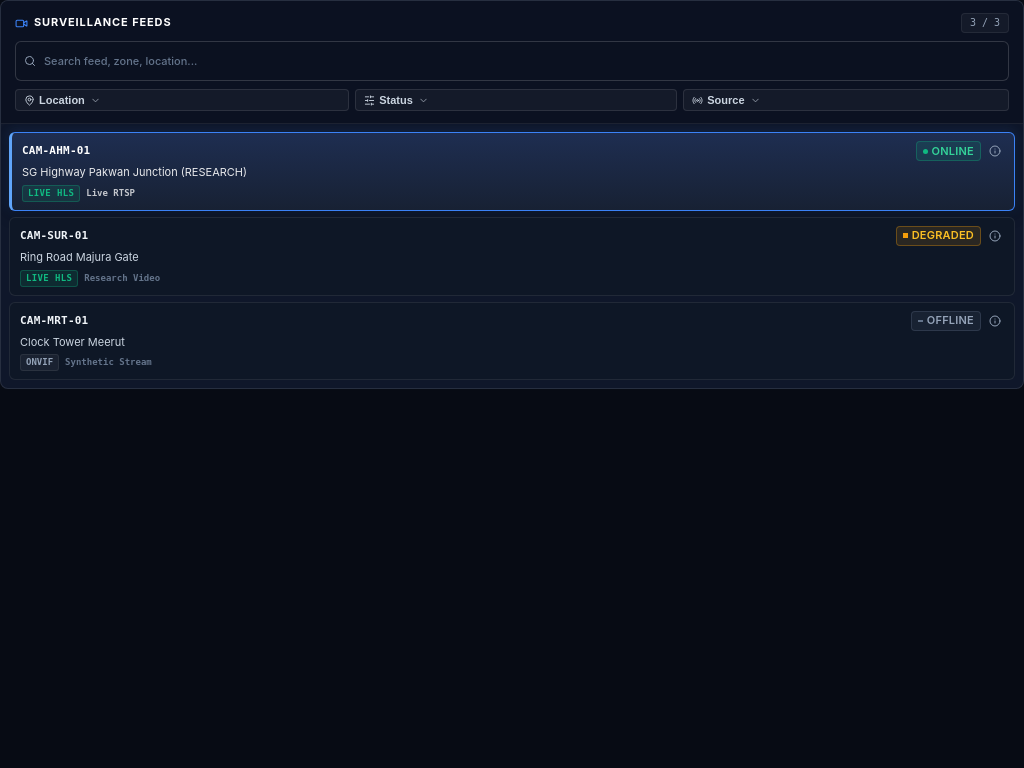
Test: Live CCTV Monitoring Page & Components › Scalable Dynamic Location & Multi-faceted Filtering (Part 2) › filters by status and source and supports combined filtering
# Filter by Status: DEGRADED
What coordinates should you click on to do the following:
click the button with test id "live-filter-dropdown-status"
I would click on:
 (396, 100)
Its box is x1=355 y1=89 x2=677 y2=111.
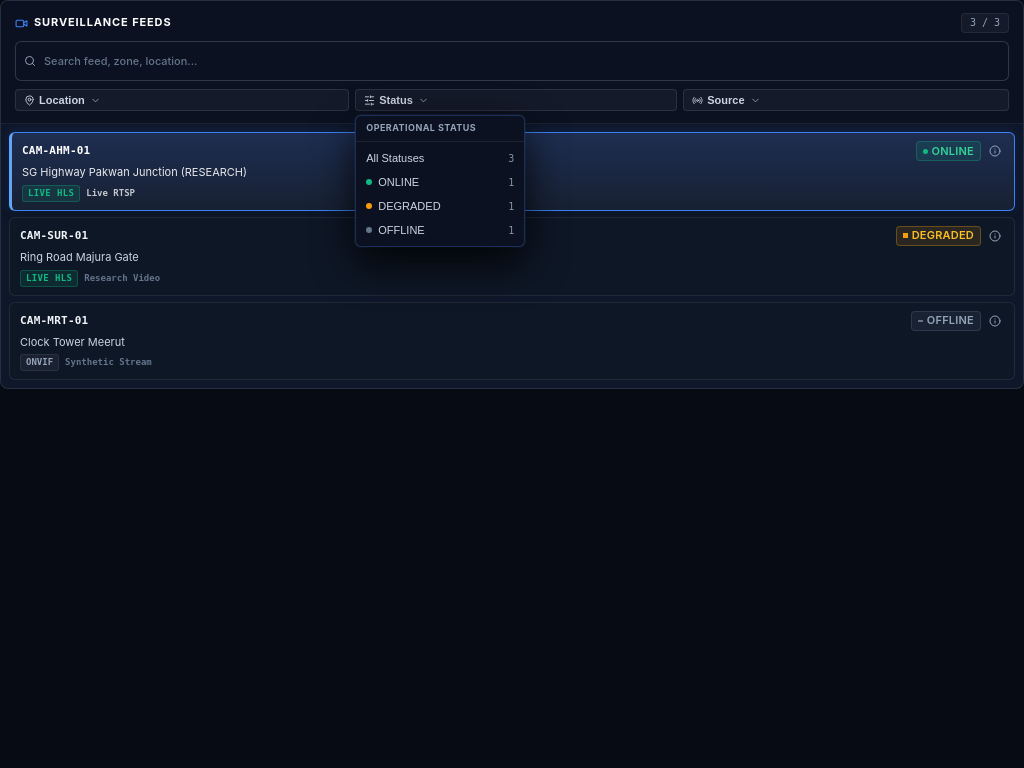
What coordinates should you click on to do the following:
click the button with test id "filter-degraded"
I would click on:
 (440, 206)
Its box is x1=356 y1=194 x2=524 y2=218.
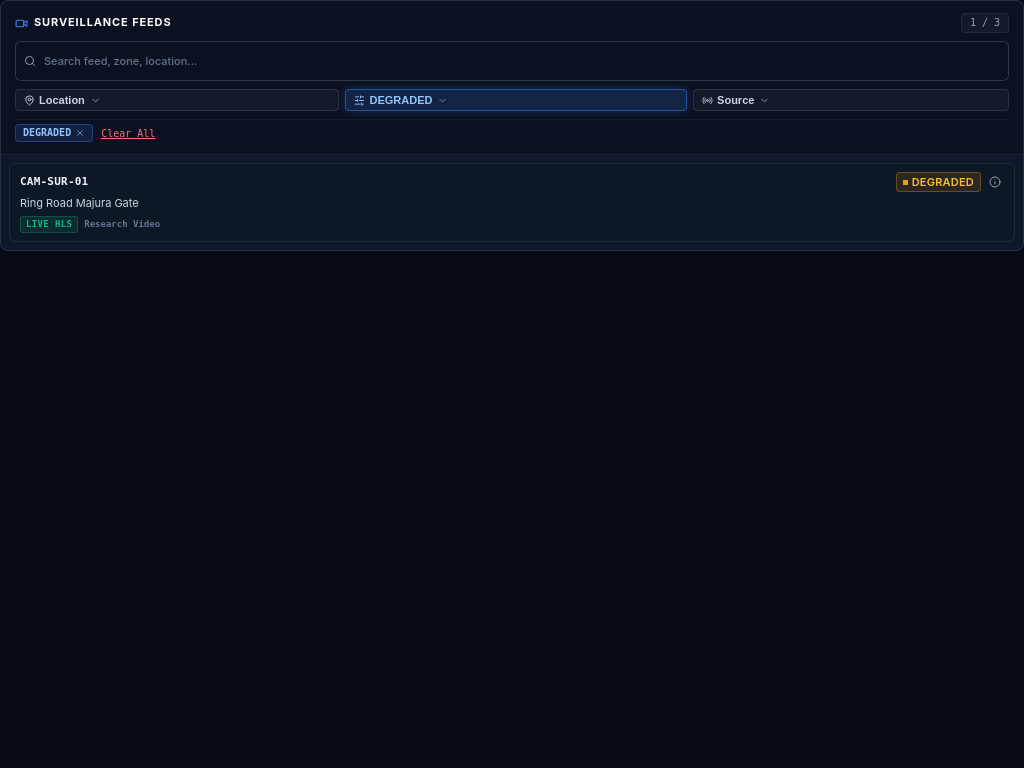
Expected: the button with test id "camera-item-CAM-SUR-01: Ring Road Majura Gate" is shown, x1=9 y1=163 x2=1015 y2=242
# Filter by Source: RESEARCH_VIDEO
What coordinates should you click on to do the following:
click the button with test id "live-filter-dropdown-source"
I would click on:
 (736, 100)
Its box is x1=693 y1=89 x2=1009 y2=111.
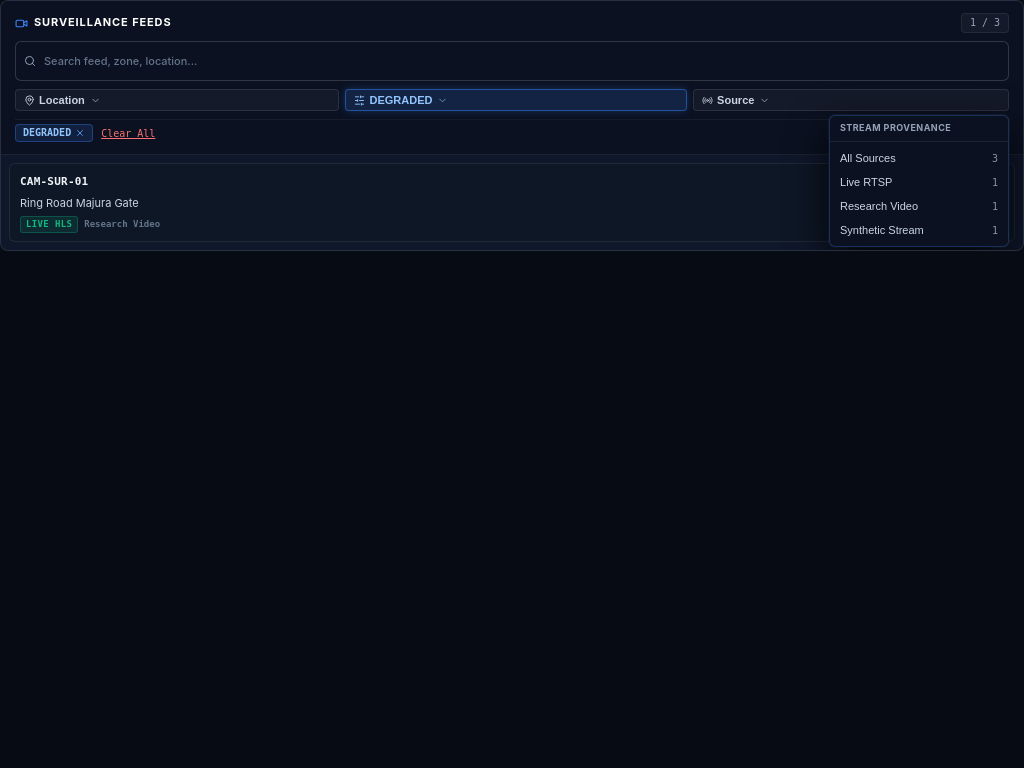
What coordinates should you click on to do the following:
click the button with test id "live-filter-source-research-video"
I would click on:
 (919, 206)
Its box is x1=830 y1=194 x2=1008 y2=218.
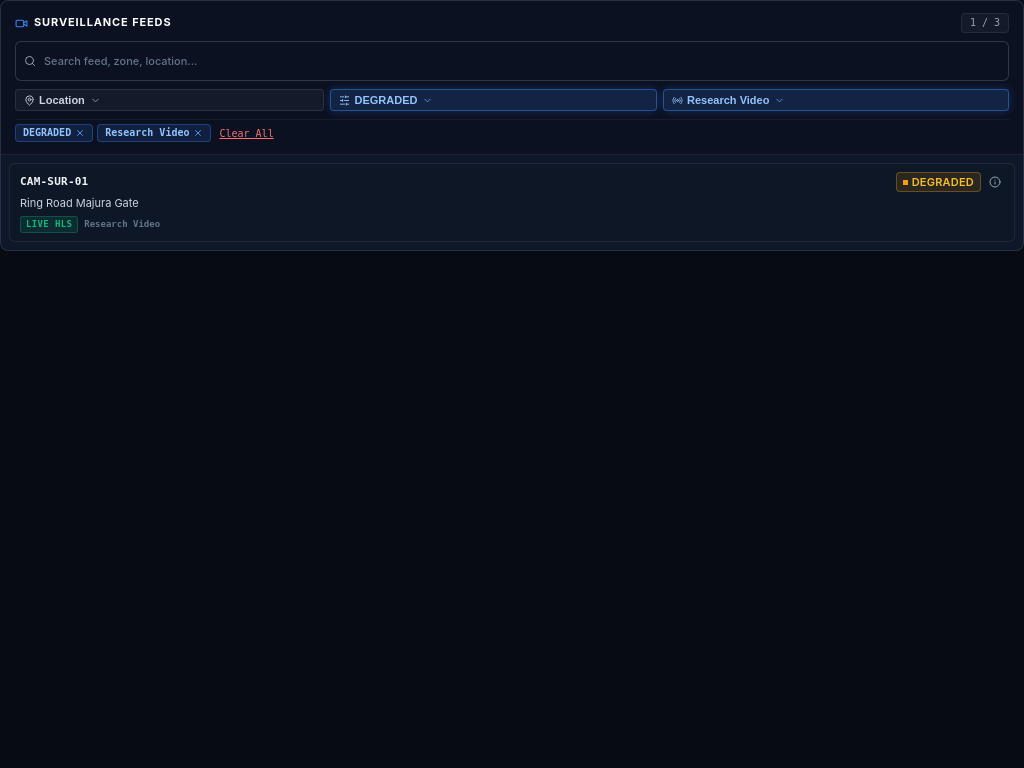
Expected: the button with test id "camera-item-CAM-SUR-01: Ring Road Majura Gate" is shown, x1=9 y1=163 x2=1015 y2=242
# Clear all filters
What coordinates should you click on to do the following:
click the button with test id "live-filter-clear-all"
I would click on:
 (247, 133)
Its box is x1=216 y1=126 x2=278 y2=141.
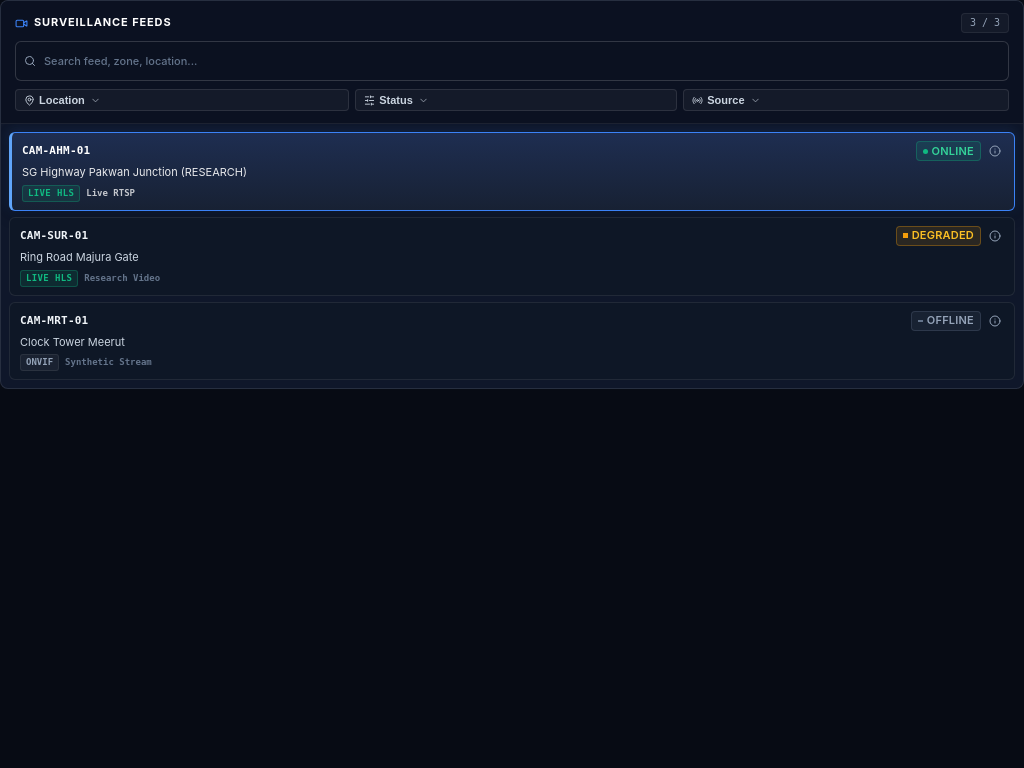
Expected: the button with test id "camera-item-CAM-SUR-01: Ring Road Majura Gate" is shown, x1=9 y1=217 x2=1015 y2=296
Result: the button with test id "camera-item-CAM-AHM-01: SG Highway Pakwan Junction (RESEARCH)" is shown at x1=9 y1=132 x2=1015 y2=211
Result: the button with test id "camera-item-CAM-MRT-01: Clock Tower Meerut" is shown at x1=9 y1=302 x2=1015 y2=380
